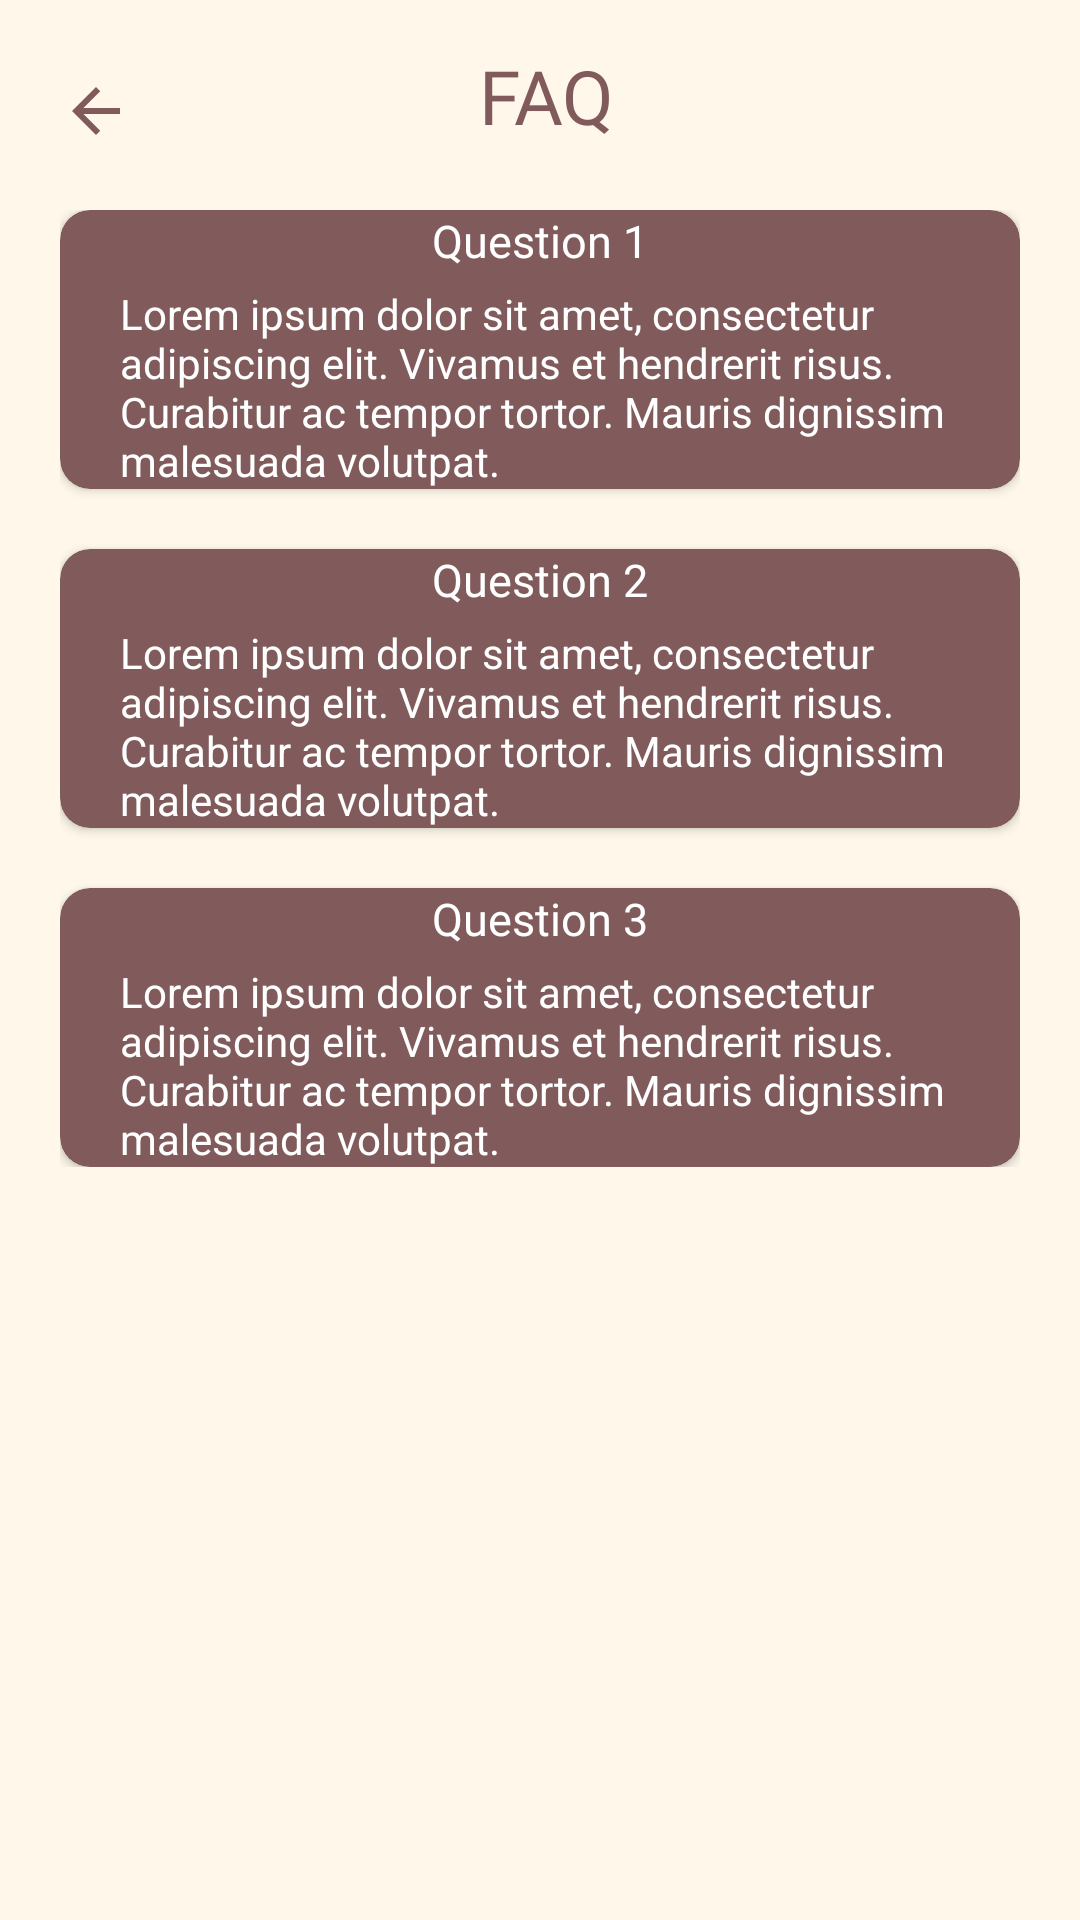

Named icons in this screenshot (1080x1920) and their bounding boxes, bbox=[x1, y1, x2, y2]:
back arrow: bbox=[72, 87, 120, 135]
